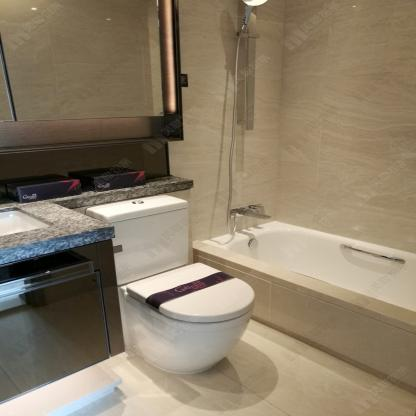Bathtub: (194, 219, 416, 394)
Toilet: (84, 193, 257, 369)
